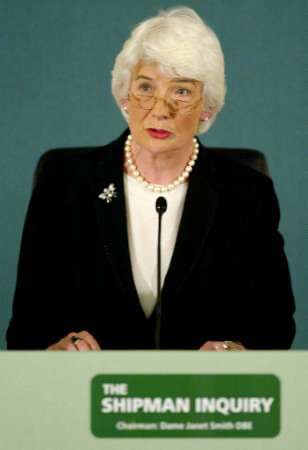Face: (125, 65, 203, 160)
